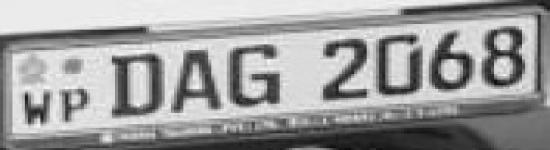0: (374, 30, 429, 100)
2: (314, 34, 374, 104)
6: (429, 25, 478, 96)
8: (478, 21, 530, 92)
A: (166, 46, 223, 116)
D: (101, 51, 168, 119)
G: (224, 41, 290, 111)
P: (58, 85, 95, 123)
W: (18, 87, 53, 129)
